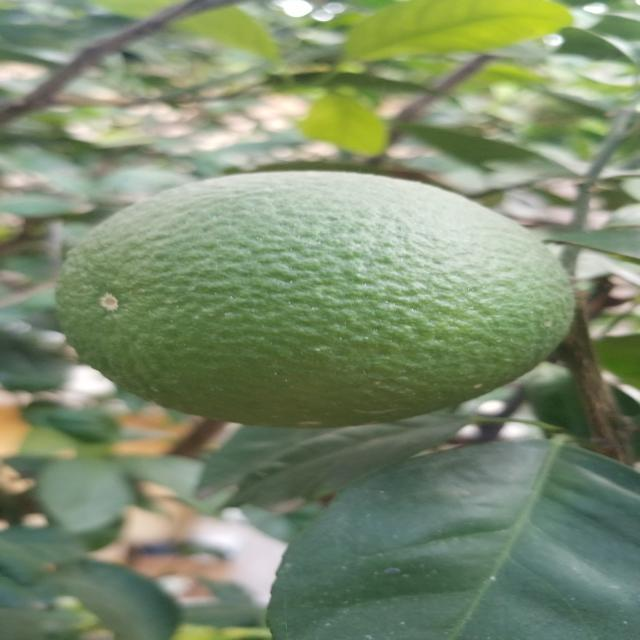Unripe: (49, 166, 581, 428)
